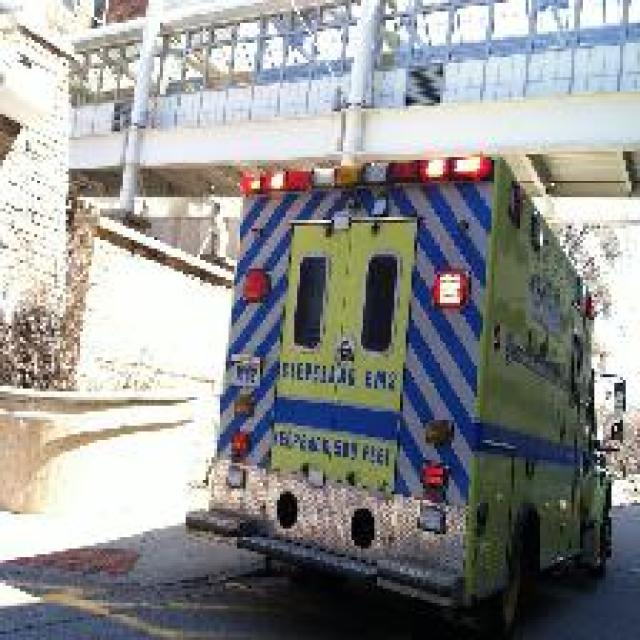Ambulance: (183, 149, 623, 637)
